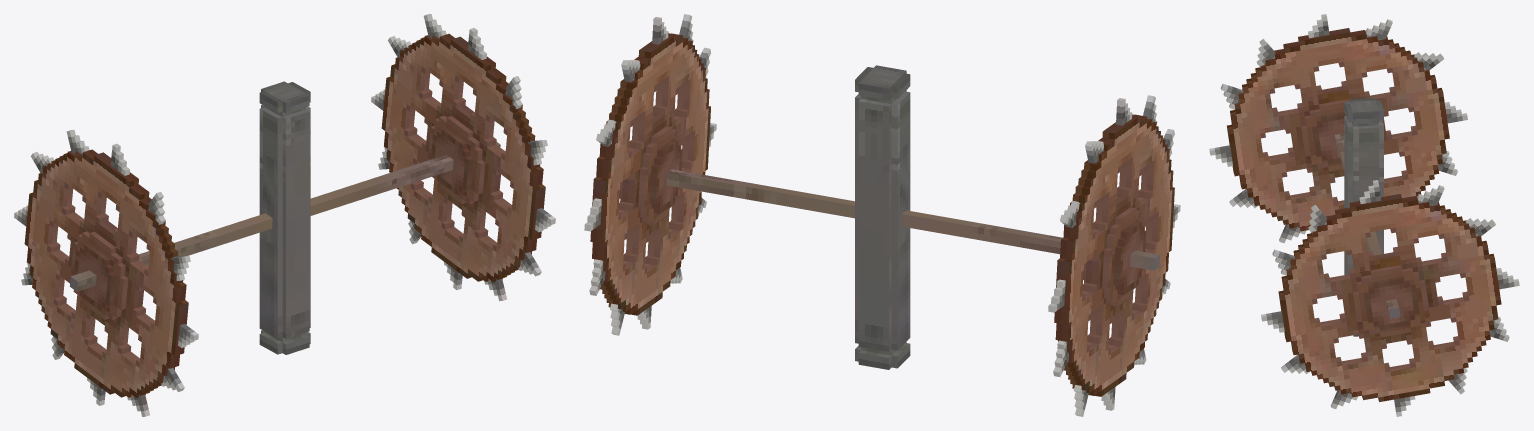
The model's file is trap-26.glb.
3 views of the same model, side by side, from view 1: azimuth 30°, elevation 25°; view 2: azimuth 150°, elevation 25°; view 3: azimuth 270°, elevation 25° (orthographic). The views are drawn at different scales.
Parts seen in each view (by area): view 1: Log1-Local; view 2: Log1-Local; view 3: Log1-Local.
Boxes of the visible parts, <box> form: Log1-Local: <box>14,14,555,416</box>; Log1-Local: <box>584,14,1180,416</box>; Log1-Local: <box>1209,14,1519,416</box>.
Bounding box in the file's own units: 1.5 × 0.8385 × 1.
Materials: 4 (4 with a texture image).
